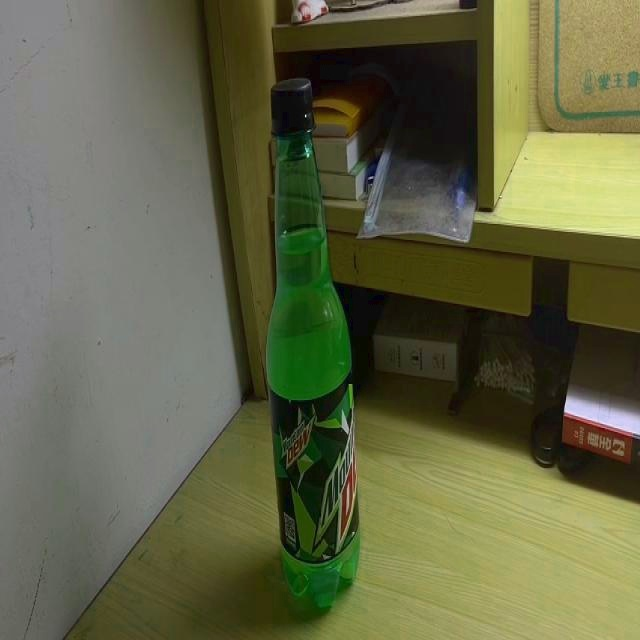Mountain-Dew: (264, 71, 360, 611)
